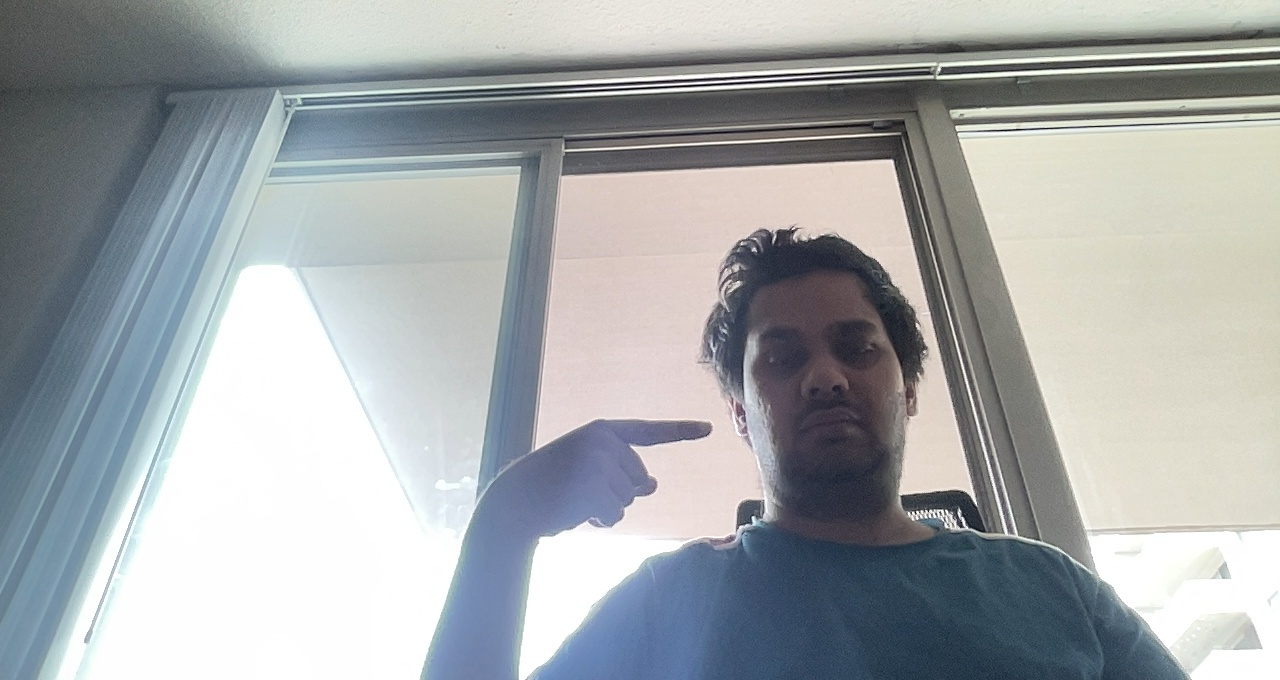fingerleft: (499, 416, 715, 533)
